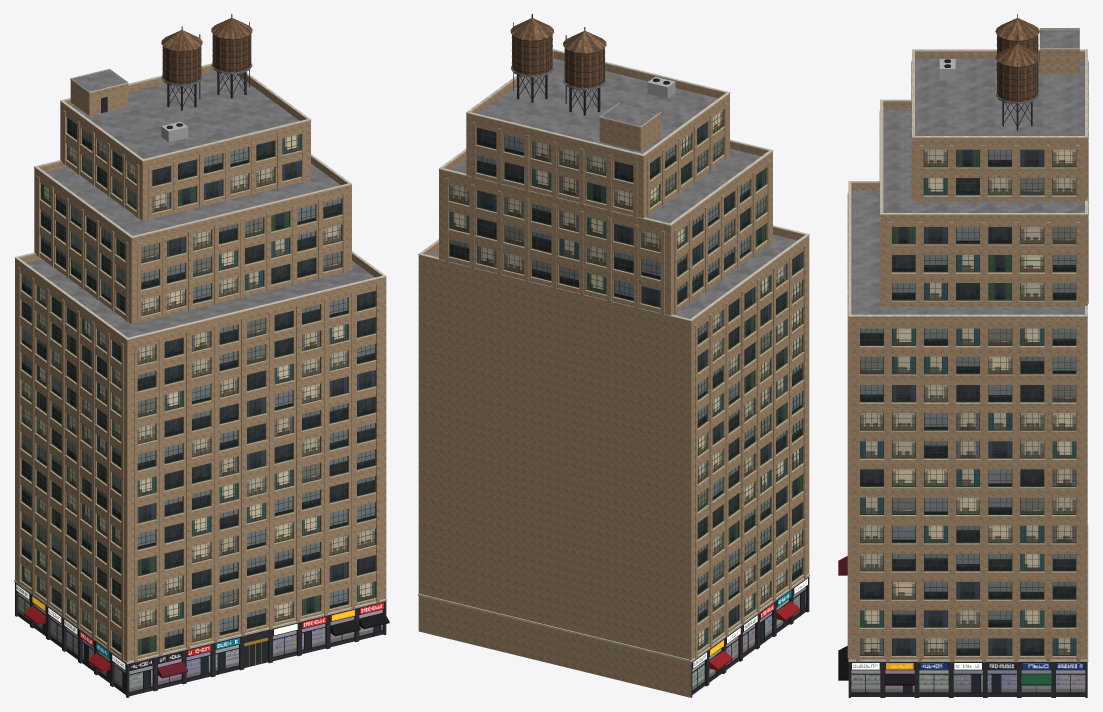
The model's file is hd08_garment_district_loft.gltf.
3 renders of one model, left to right at view 1: azimuth 30°, elevation 25°; view 2: azimuth 150°, elevation 25°; view 3: azimuth 270°, elevation 25°, orthographic. The views are drawn at different scales.
Parts seen in each view (by area): view 1: hd08_garment_district_loft_LOD0; view 2: hd08_garment_district_loft_LOD0; view 3: hd08_garment_district_loft_LOD0.
Boxes of the visible parts, x1,y1,x2,y2 form: hd08_garment_district_loft_LOD0: (14,14,389,697); hd08_garment_district_loft_LOD0: (418,14,809,697); hd08_garment_district_loft_LOD0: (838,14,1088,697).
Size of what is drawn, in the model's own units: 42.6 by 85.7 by 31.42.
Materials: 20 (8 with a texture image).
